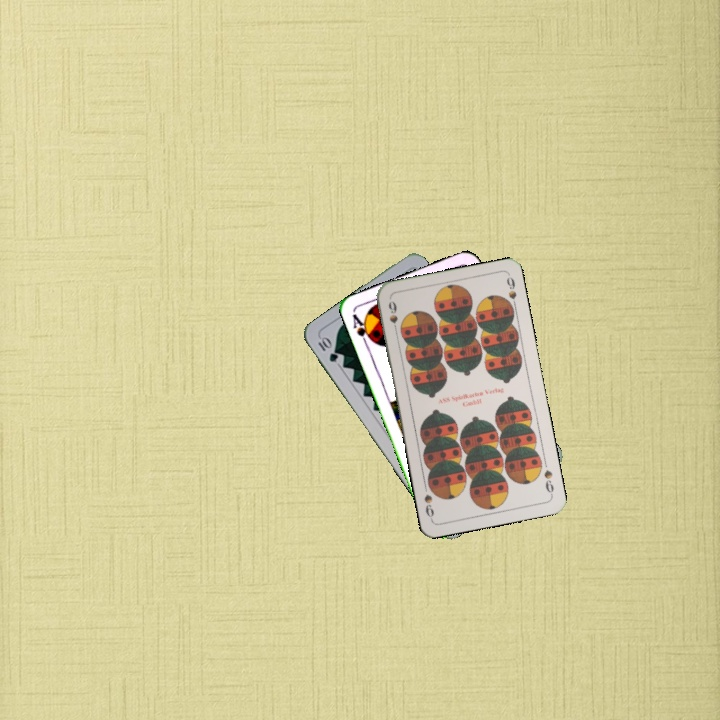G10: (314, 333, 341, 365)
S9: (384, 297, 400, 336), (540, 466, 556, 498)
SA: (348, 310, 377, 349)
